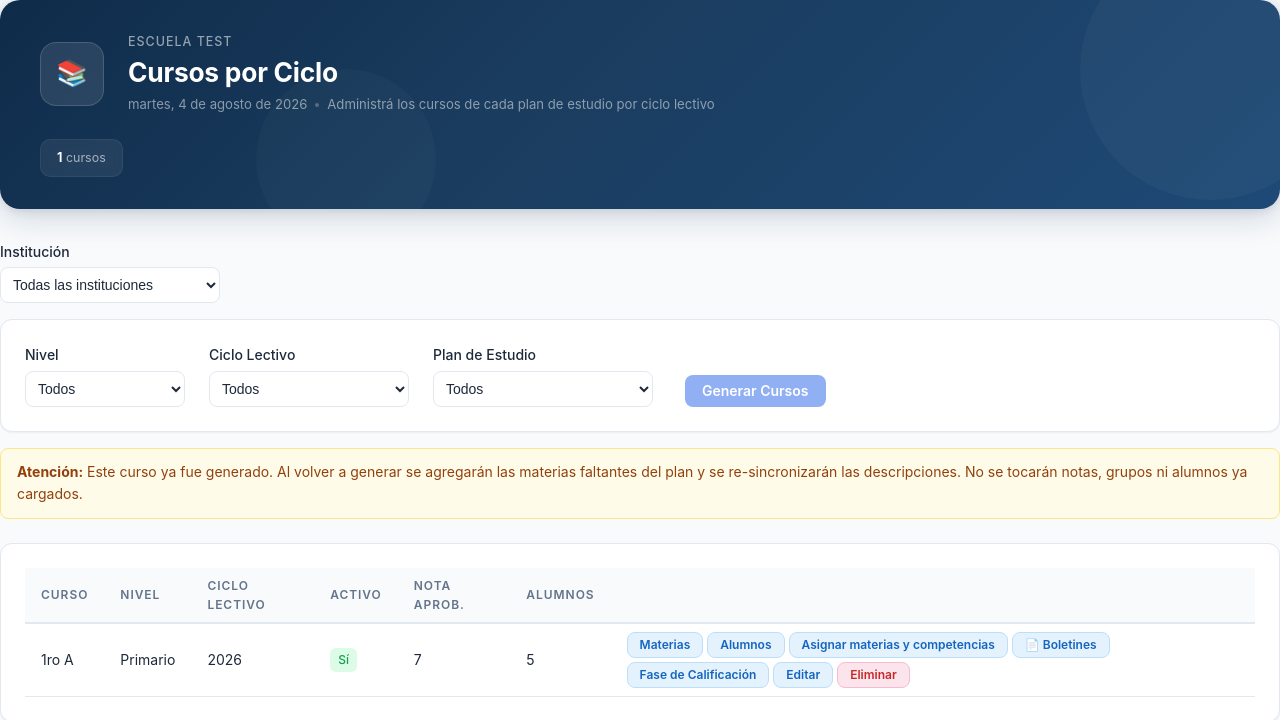
Test case: CourseCyclesPage › Bulk cascade button › W-21: button is disabled while request is in-flight
Click the button with test id "btn-bulk-cascade-cc-bulk-1": [898, 645] box [788,632,1008,658]
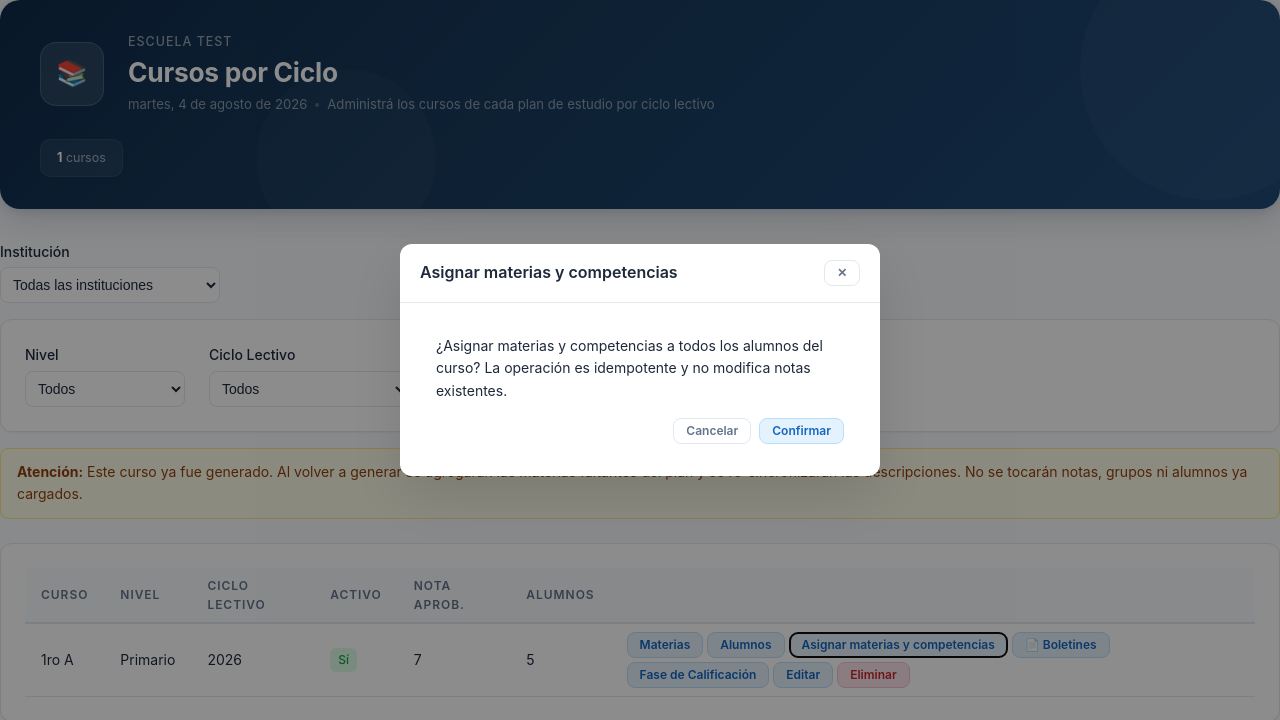
Click the button with test id "btn-confirm-bulk-cascade": [802, 431] box [759,418,844,444]
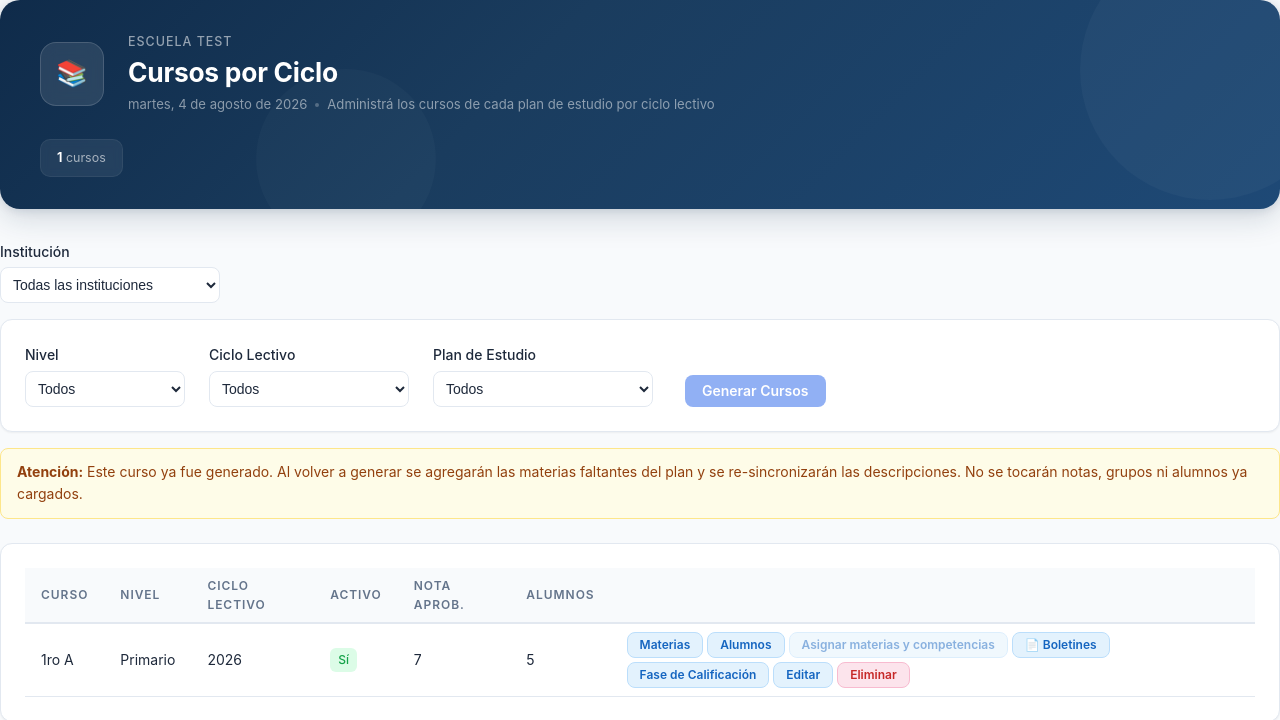
Check: the button with test id "btn-bulk-cascade-cc-bulk-1" is disabled, box [788,632,1008,658]
